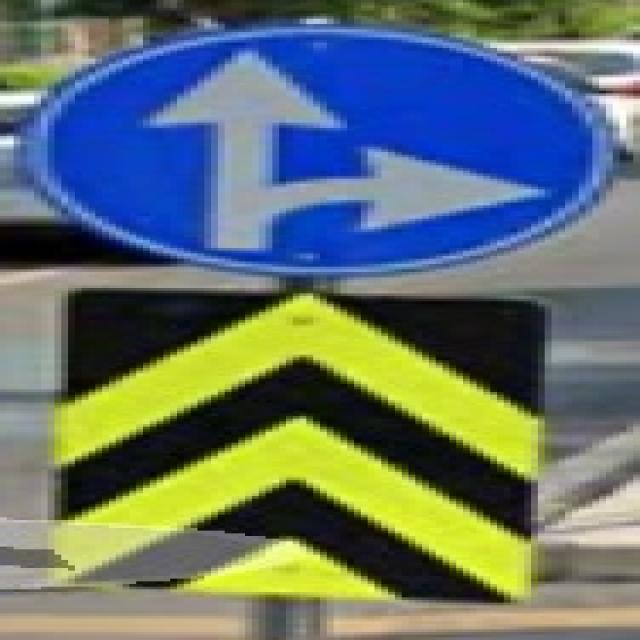Straight or Right: (35, 33, 593, 270)
